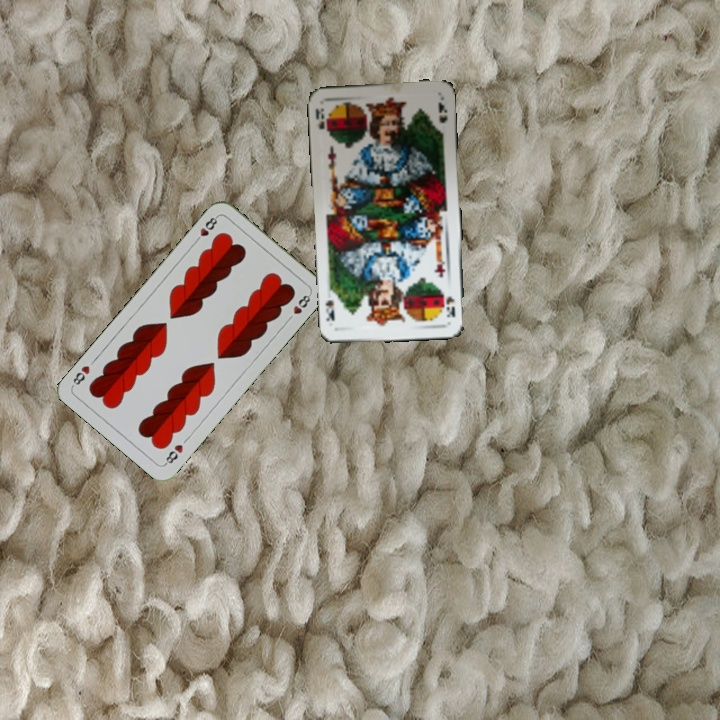H8: (191, 212, 221, 246), (161, 440, 186, 468)
SK: (311, 104, 331, 140), (442, 292, 458, 320)
